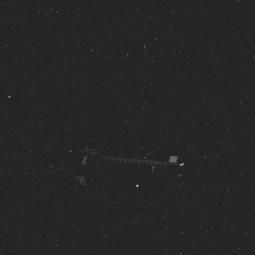xmm_newton: (72, 140, 188, 195)
